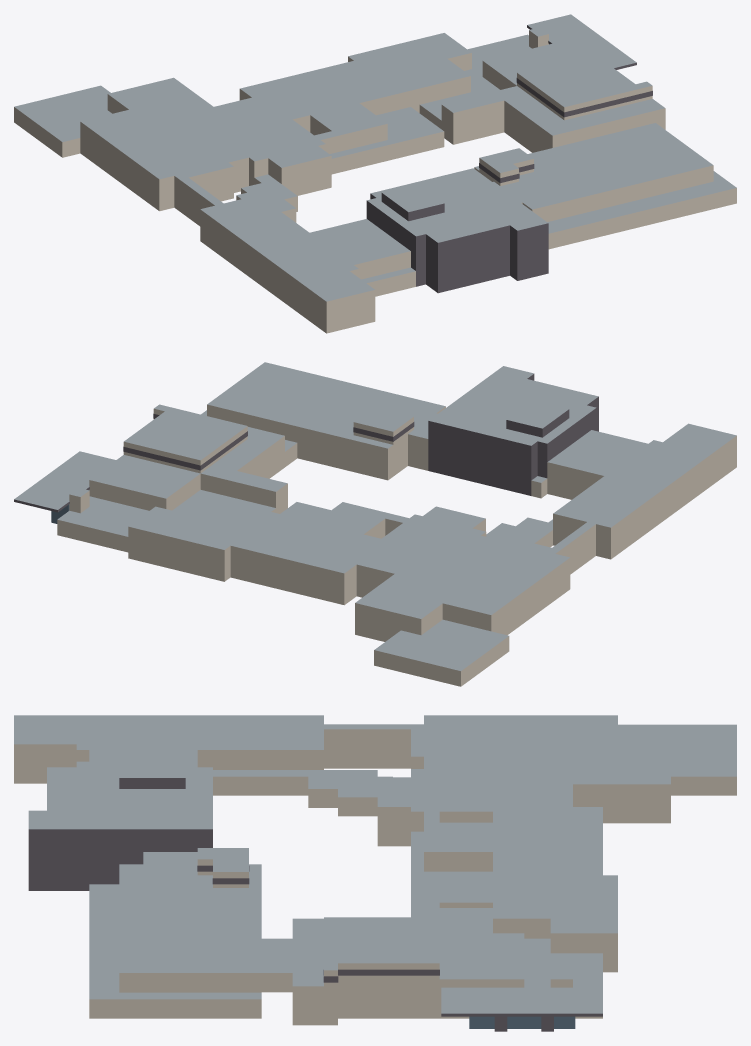
File: phx-phoenix-art-museum.glb
3 renders of one model, top to bottom at view 1: azimuth 30°, elevation 25°; view 2: azimuth 150°, elevation 25°; view 3: azimuth 270°, elevation 25°, orthographic. The views are drawn at different scales.
Parts seen in each view (by area): view 1: Phoenix Art Museum; view 2: Phoenix Art Museum; view 3: Phoenix Art Museum.
Part boxes in pixels (<box>): Phoenix Art Museum: <box>14,14,736,333</box>; Phoenix Art Museum: <box>14,362,736,686</box>; Phoenix Art Museum: <box>14,715,736,1031</box>.
Bounding box in the file's own units: 168 × 19 × 171.
